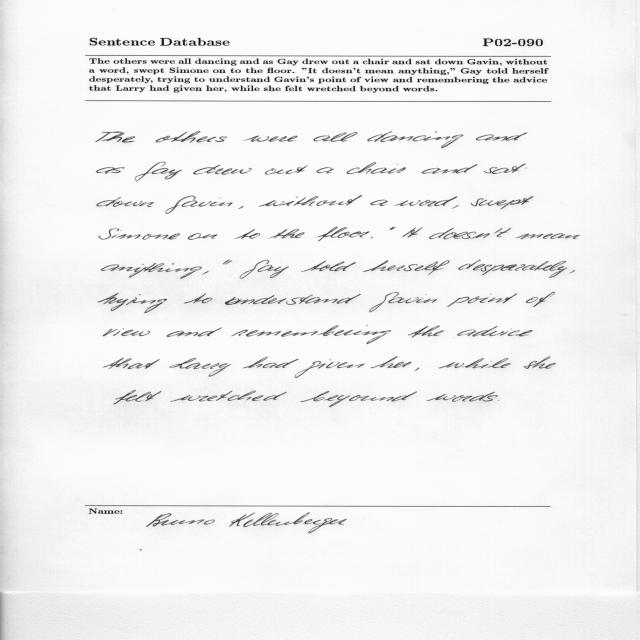word: (231, 326, 391, 344), (370, 292, 470, 312), (458, 260, 567, 278), (301, 391, 417, 407), (367, 131, 464, 148), (101, 263, 202, 279), (225, 294, 361, 305), (170, 390, 287, 402), (98, 293, 167, 313), (295, 359, 364, 378), (363, 260, 450, 275), (166, 195, 233, 214), (259, 195, 362, 207), (169, 358, 231, 377), (99, 228, 180, 240), (240, 260, 289, 279), (429, 228, 511, 239), (135, 162, 182, 181), (156, 131, 227, 143), (457, 326, 533, 337), (471, 196, 534, 209), (318, 227, 370, 241), (439, 358, 511, 368), (427, 392, 498, 402), (347, 162, 406, 174), (114, 390, 161, 404), (394, 197, 457, 207), (103, 358, 160, 369), (243, 357, 299, 368), (301, 261, 356, 272), (193, 165, 252, 175), (97, 197, 154, 207), (422, 164, 478, 174), (167, 327, 222, 337), (468, 294, 517, 304), (484, 163, 527, 174), (476, 132, 527, 141), (314, 132, 358, 142), (371, 357, 411, 368), (526, 292, 555, 307), (408, 326, 444, 338), (96, 132, 135, 143), (524, 356, 556, 369), (265, 166, 308, 175), (516, 234, 580, 240), (103, 328, 150, 336), (268, 229, 305, 239), (245, 136, 297, 142), (184, 294, 212, 304), (235, 229, 260, 239), (402, 227, 423, 238), (188, 233, 218, 240), (97, 167, 125, 173), (370, 200, 388, 206), (317, 167, 334, 173), (223, 260, 232, 265), (202, 271, 209, 275), (452, 205, 458, 209), (414, 367, 419, 371), (390, 227, 396, 230), (238, 206, 243, 209), (570, 270, 575, 273), (371, 237, 373, 239), (498, 400, 499, 401)
